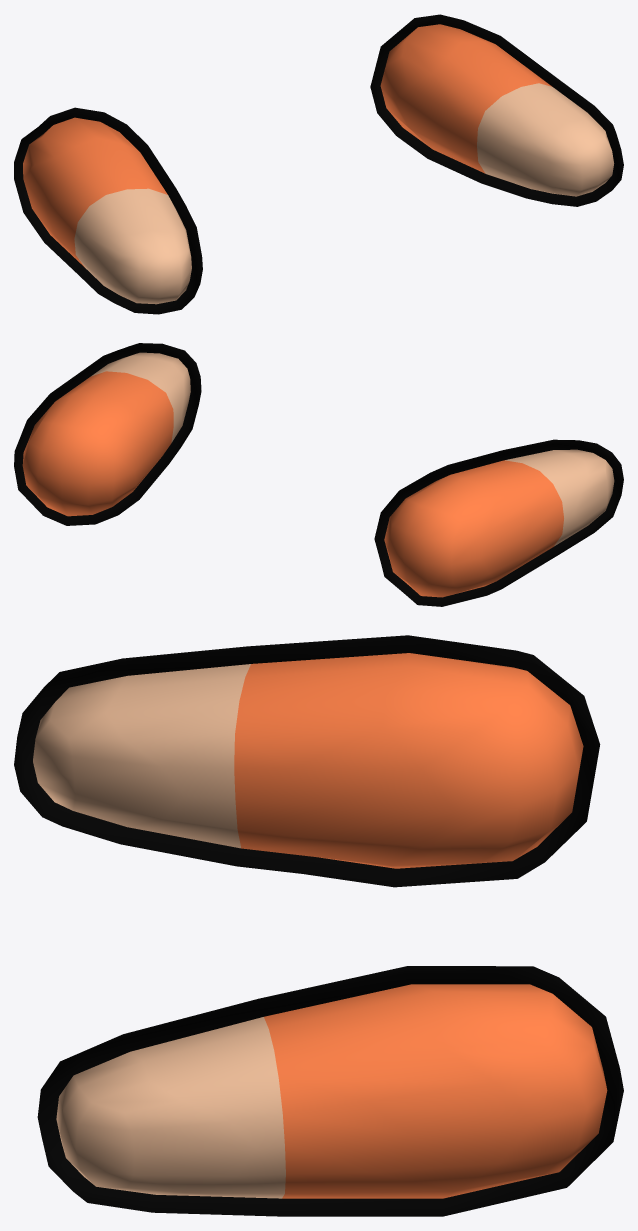
File: GIC PUSH ARMS.glb
The picture shows the model from 3 angles, top to bottom: view 1: azimuth 30°, elevation 25°; view 2: azimuth 150°, elevation 25°; view 3: azimuth 270°, elevation 25°; orthographic projection. The views are drawn at different scales.
Parts seen in each view (by area): view 1: Arm.L, Arm.R, OUT-ARM.L, OUT-ARM.R; view 2: Arm.R, Arm.L, OUT-ARM.R, OUT-ARM.L; view 3: Arm.R, Arm.L, OUT-ARM.L, OUT-ARM.R.
Boxes of the visible parts, <box> form: Arm.L: <box>380,24,614,196</box>; Arm.R: <box>23,117,191,304</box>; OUT-ARM.L: <box>370,14,623,206</box>; OUT-ARM.R: <box>14,107,202,314</box>; Arm.R: <box>384,449,614,597</box>; Arm.L: <box>22,352,190,516</box>; OUT-ARM.R: <box>374,439,623,606</box>; OUT-ARM.L: <box>14,343,201,525</box>; Arm.R: <box>33,653,583,868</box>; Arm.L: <box>56,984,607,1198</box>; OUT-ARM.L: <box>37,966,623,1216</box>; OUT-ARM.R: <box>14,635,600,887</box>.
Size of the model in its own units: 1.74 by 0.4039 by 0.9856.
2 materials, 1 textured.
